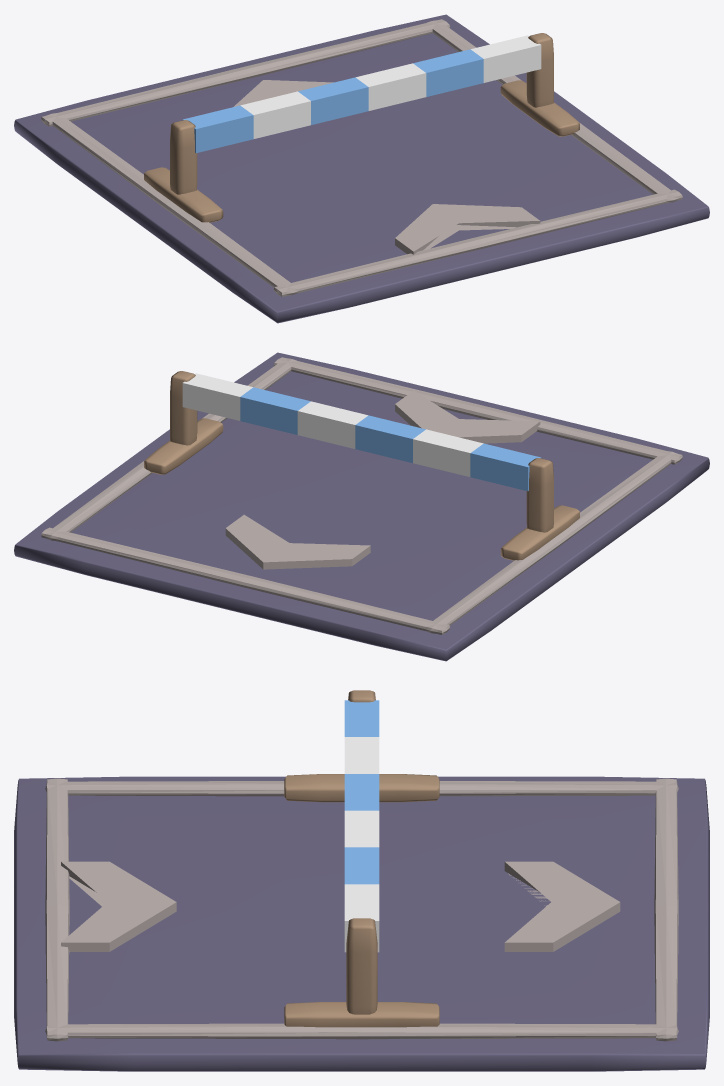
The model's file is RockinRacewayHurdle.glb.
3 renders of one model, top to bottom at view 1: azimuth 30°, elevation 25°; view 2: azimuth 150°, elevation 25°; view 3: azimuth 270°, elevation 25°, orthographic. The views are drawn at different scales.
Parts seen in each view (by area): view 1: Pad, Trim, Posts, BarB, BarA; view 2: Pad, Trim, Posts, BarB, BarA; view 3: Pad, Trim, Posts, BarB, BarA.
Part boxes in pixels (box(x1,y1,x2,y2)): Pad: box(14, 14, 709, 323); Trim: box(41, 19, 682, 296); Posts: box(144, 33, 579, 222); BarB: box(240, 35, 541, 138); BarA: box(182, 49, 483, 153); Pad: box(14, 352, 709, 661); Trim: box(41, 357, 682, 634); Posts: box(144, 371, 579, 560); BarB: box(182, 373, 483, 476); BarA: box(240, 387, 541, 491); Pad: box(14, 776, 709, 1071); Trim: box(45, 778, 678, 1041); Posts: box(284, 690, 439, 1027); BarB: box(344, 737, 379, 952); BarA: box(344, 700, 379, 884).
Size of the model in its own units: 3.8 by 0.8192 by 4.
